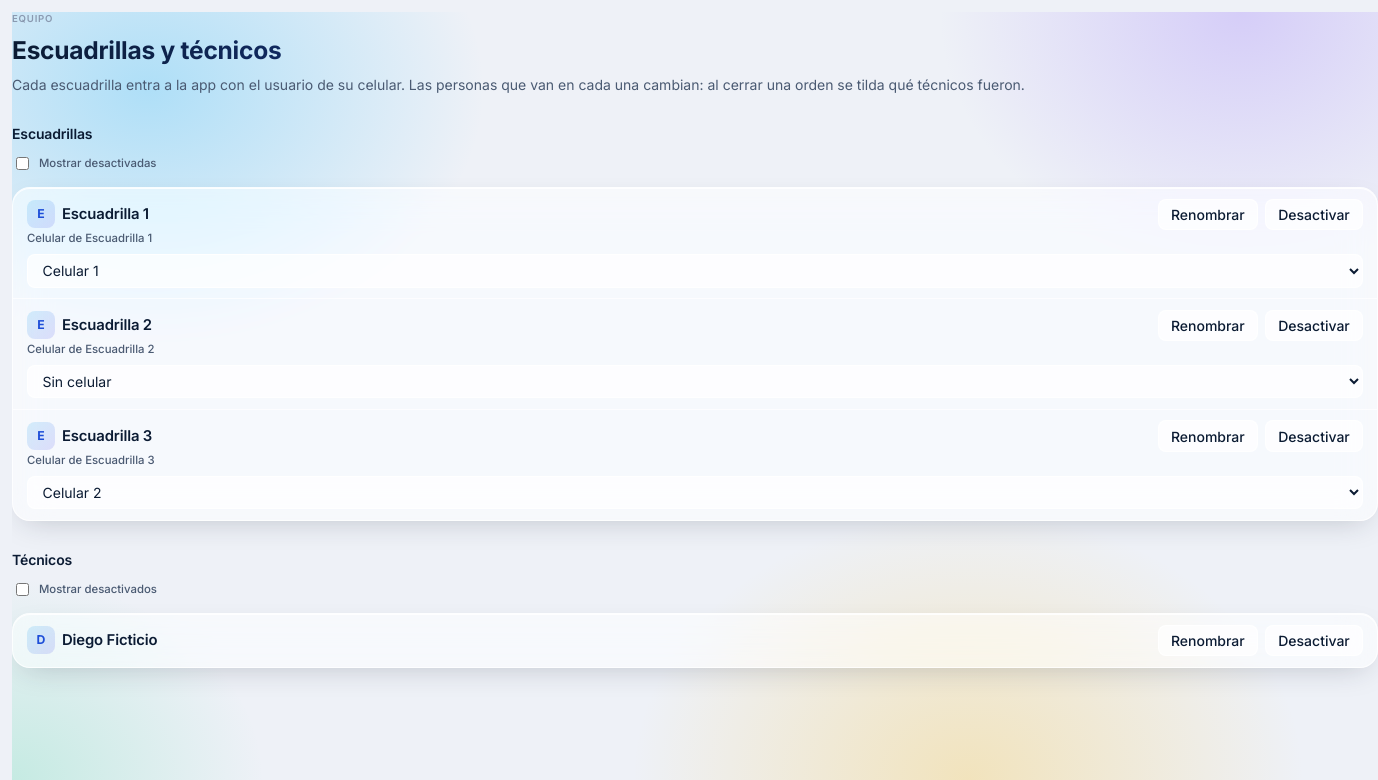
Scenario: CrewsPage › muestra el error del backend al asociar un usuario
Select "Celular 3" in the dropdown labelled "Celular de Escuadrilla 2" at coordinates (695, 382), box left=27, top=365, right=1363, bottom=398
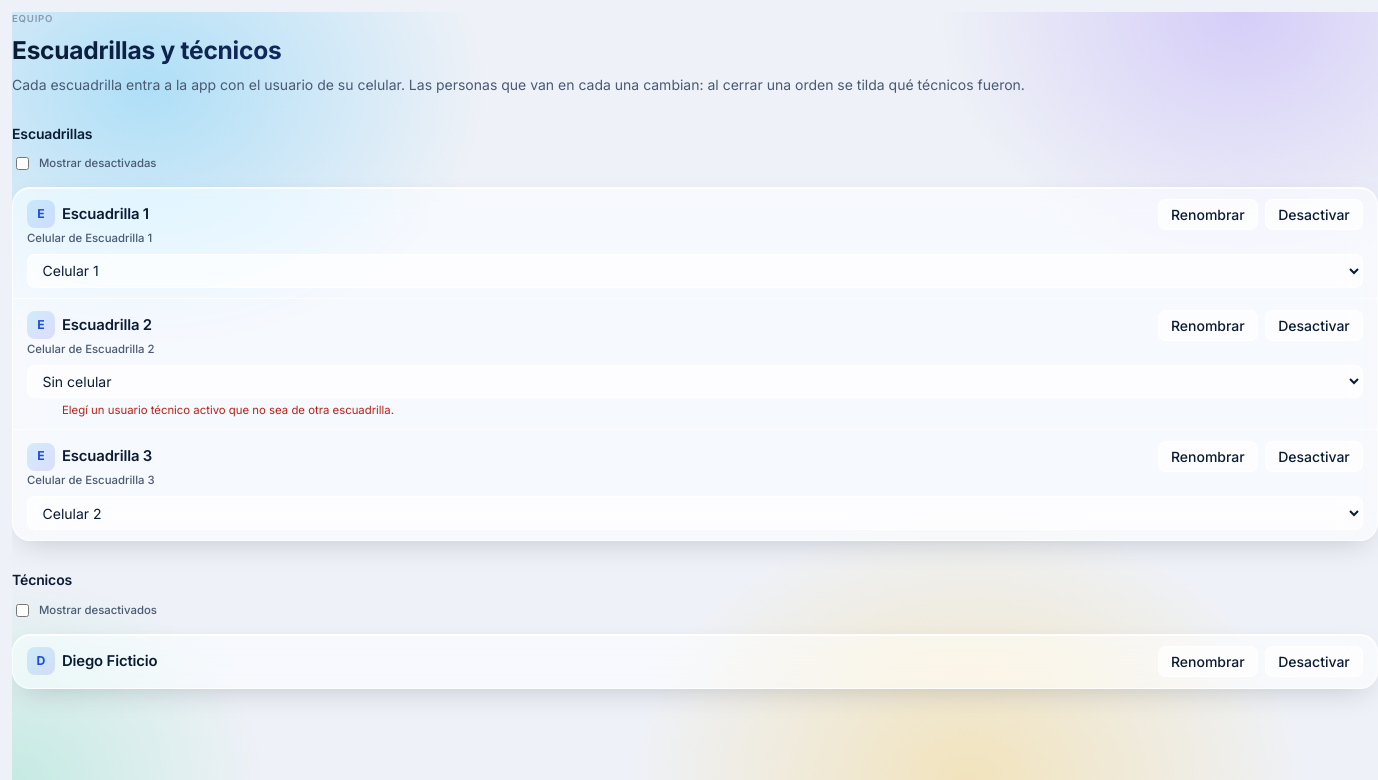
Expected: the message reads "Elegí un usuario técnico activo que no sea de otra escuadrilla.", left=62, top=403, right=394, bottom=417
